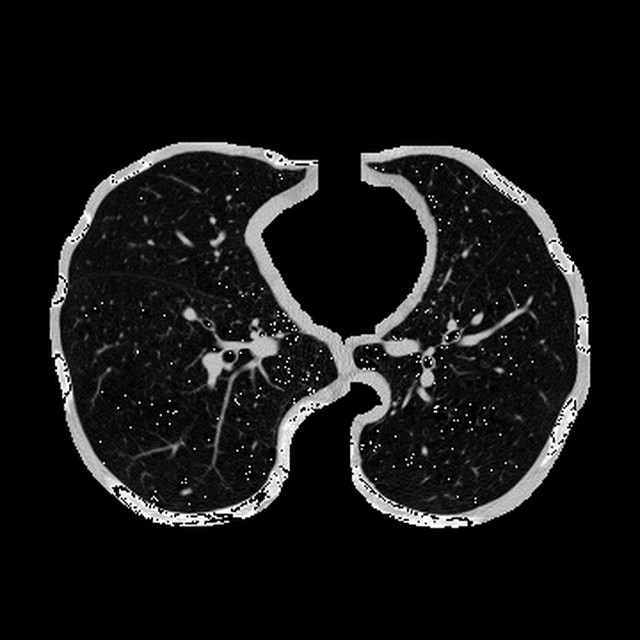PN: (181, 487, 188, 494)
